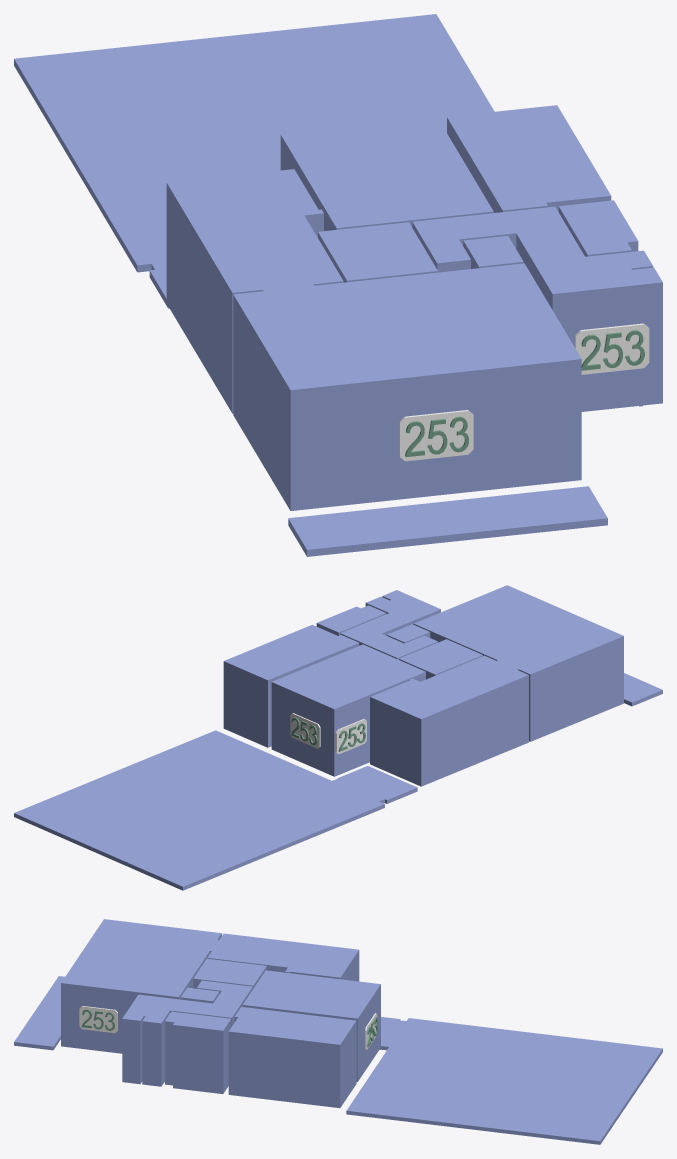
3 views of the same model, one above another, from view 1: azimuth 30°, elevation 25°; view 2: azimuth 150°, elevation 25°; view 3: azimuth 270°, elevation 25° (orthographic). The views are drawn at different scales.
Parts seen in each view (by area): view 1: g_1, g_8, g_0, g_4, g_6, g_9, g_7, g_2, g_5, g_25, g_21, g_3; view 2: g_8, g_1, g_0, g_6, g_7, g_4, g_2, g_5, g_9, g_13, g_17, g_3; view 3: g_8, g_1, g_7, g_6, g_4, g_5, g_0, g_9, g_2, g_29, g_3.
Boxes of the visible parts, <box> form: g_1: <box>233,263,581,510</box>; g_8: <box>14,14,494,308</box>; g_0: <box>166,169,343,413</box>; g_4: <box>412,206,662,411</box>; g_6: <box>280,118,493,230</box>; g_9: <box>288,486,607,556</box>; g_7: <box>447,105,611,212</box>; g_2: <box>318,222,437,282</box>; g_5: <box>558,200,638,256</box>; g_25: <box>399,410,473,461</box>; g_21: <box>575,323,649,374</box>; g_3: <box>463,236,523,268</box>; g_8: <box>14,730,417,890</box>; g_1: <box>413,585,623,741</box>; g_0: <box>370,655,528,786</box>; g_6: <box>271,644,425,776</box>; g_7: <box>223,624,359,747</box>; g_4: <box>340,590,440,659</box>; g_2: <box>399,639,482,679</box>; g_5: <box>316,605,386,635</box>; g_9: <box>624,673,662,706</box>; g_13: <box>335,719,366,754</box>; g_17: <box>290,713,320,748</box>; g_3: <box>386,624,430,643</box>; g_8: <box>346,1017,662,1144</box>; g_1: <box>61,919,221,1053</box>; g_7: <box>228,1007,356,1108</box>; g_6: <box>242,970,380,1081</box>; g_4: <box>122,980,252,1086</box>; g_5: <box>165,1011,231,1093</box>; g_0: <box>207,933,359,981</box>; g_9: <box>14,976,64,1050</box>; g_2: <box>193,958,266,988</box>; g_29: <box>79,1006,117,1033</box>; g_3: <box>180,987,219,1003</box>.
Size of the model in its own units: 14.39 by 2.74 by 23.9.
